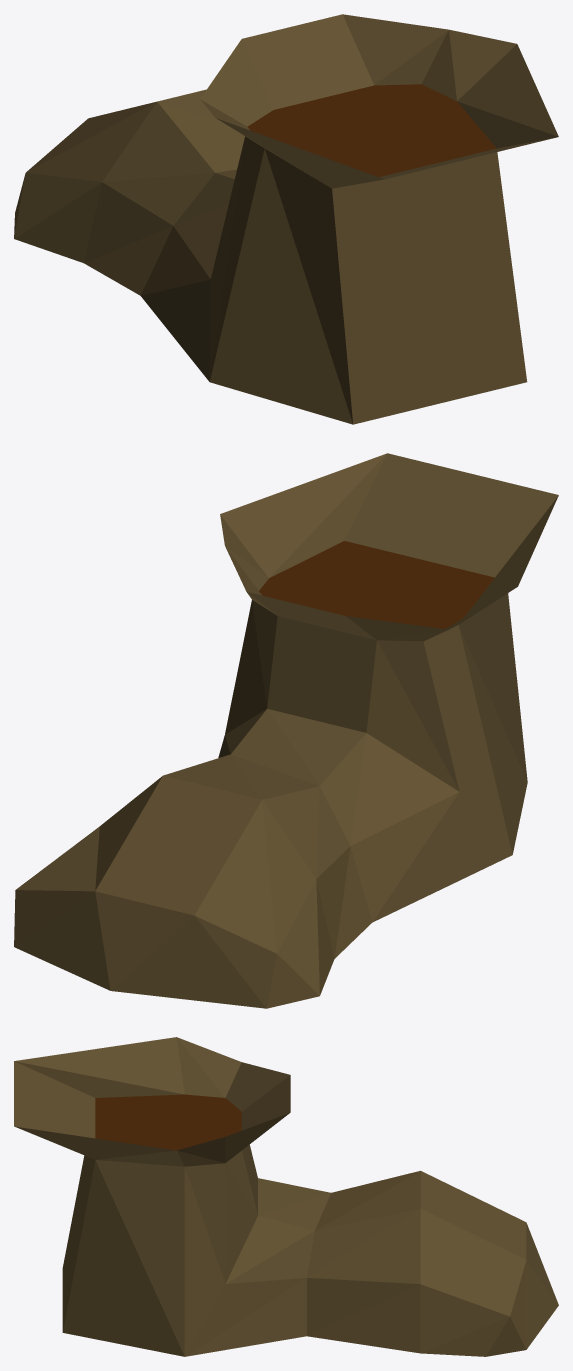
File: inv_old_boot.obj
3 views of the same model, one above another, from view 1: azimuth 30°, elevation 25°; view 2: azimuth 150°, elevation 25°; view 3: azimuth 270°, elevation 25° (orthographic). The views are drawn at different scales.
Size of the model in its own units: 0.2578 by 0.2188 by 0.5234.
